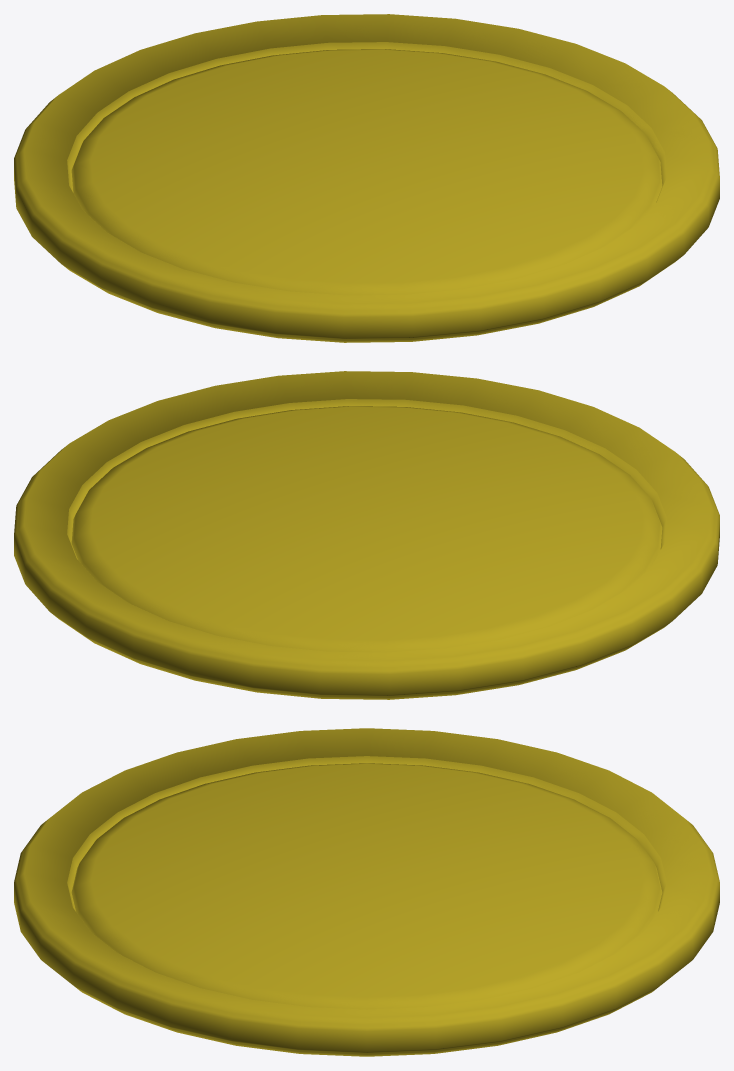
The model's file is GOLD COIN.fbx.
The picture shows the model from 3 angles, top to bottom: view 1: azimuth 30°, elevation 25°; view 2: azimuth 150°, elevation 25°; view 3: azimuth 270°, elevation 25°; orthographic projection.
Parts seen in each view (by area): view 1: Circle; view 2: Circle; view 3: Circle.
Boxes of the visible parts, x1=… form: Circle: x1=14, y1=14, x2=719, y2=342; Circle: x1=14, y1=371, x2=719, y2=699; Circle: x1=14, y1=728, x2=719, y2=1056.
Bounding box in the file's own units: 200 × 200 × 12.14.
